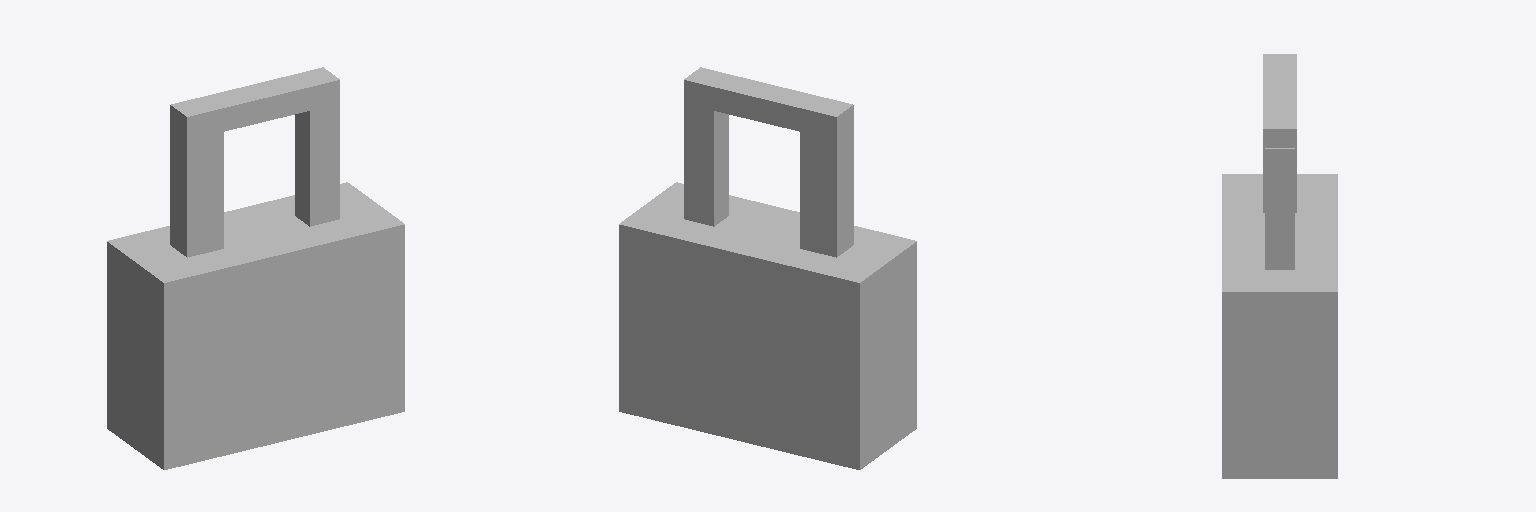
The model's file is Zamok.obj.
3 renders of one model, left to right at view 1: azimuth 30°, elevation 25°; view 2: azimuth 150°, elevation 25°; view 3: azimuth 270°, elevation 25°, orthographic.
Visible parts, largest first — view 1: Cube; view 2: Cube; view 3: Cube.
Boxes of the visible parts, x1=… form: Cube: x1=107, y1=67, x2=404, y2=469; Cube: x1=619, y1=67, x2=916, y2=469; Cube: x1=1222, y1=54, x2=1337, y2=478.
Size of the model in its own units: 1.97 by 2.56 by 0.8137.